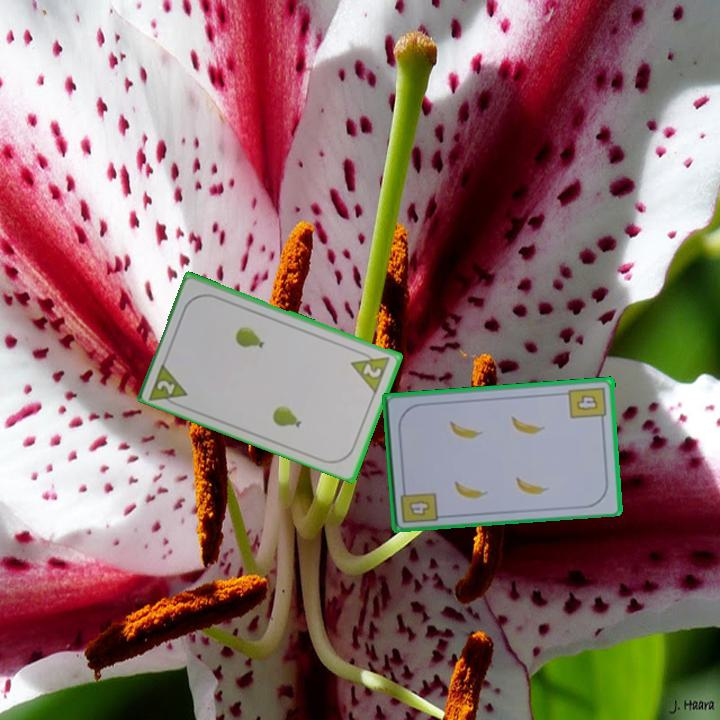2p: (146, 358, 191, 409), (348, 346, 393, 395)
4b: (566, 383, 610, 426), (405, 497, 433, 518)
